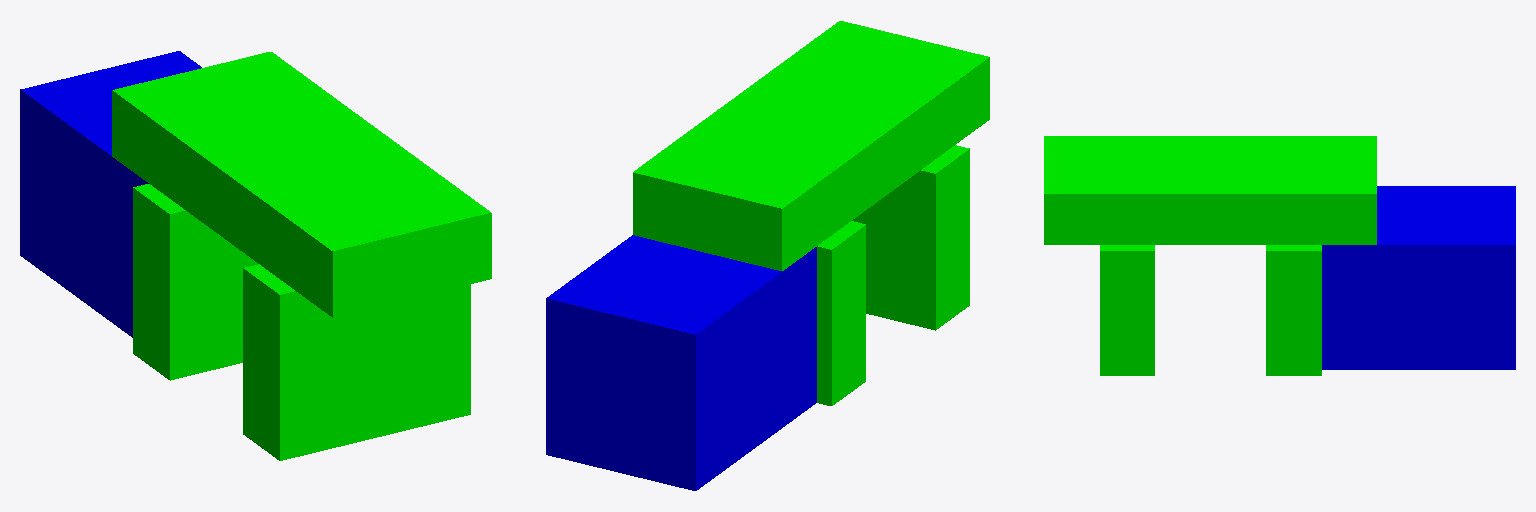
The robot description file, URDF, robot "robot":
<robot name = "robot">
    <link name="root">
        <inertial>
            <origin xyz="0.0 0.0 1.5" rpy="0 0 0"/>
            <mass value="1" />
            <inertia ixx="100" ixy="0" ixz="0" iyy="100" iyz="0" izz="100" />
        </inertial>
        <visual>
            <origin xyz="0.0 0.0 1.5" rpy="0 0 0"/>
            <geometry>
                <box size="0 0 0.0001" />
            </geometry>
            <material name="Green">
                <color rgba="0 1.0 0.0 1.0"/>
            </material>
        </visual>
        <collision>
            <origin xyz="0.0 0.0 1.5" rpy="0 0 0"/>
            <geometry>
                <box size="0 0 0.0001" />
            </geometry>
        </collision>
    </link>
    <joint name="root_000" type="revolute">
       <parent link="root"/>
       <child  link="000"/>
       <origin rpy="0 0 0" xyz="0.0 0.0 1.5" />
     <axis xyz="1 0 0"/>
       <limit effort="0.0" lower="-3.14159" upper="3.14159" velocity="0.0"/>
    </joint>
    <link name="000">
        <inertial>
            <origin xyz="0.0 0.3 0.0" rpy="0 0 0"/>
            <mass value="1" />
            <inertia ixx="100" ixy="0" ixz="0" iyy="100" iyz="0" izz="100" />
        </inertial>
        <visual>
            <origin xyz="0.0 0.3 0.0" rpy="0 0 0"/>
            <geometry>
                <box size="0.5 0.6 0.2" />
            </geometry>
            <material name="Green">
                <color rgba="0 1.0 0.0 1.0"/>
            </material>
        </visual>
        <collision>
            <origin xyz="0.0 0.3 0.0" rpy="0 0 0"/>
            <geometry>
                <box size="0.5 0.6 0.2" />
            </geometry>
        </collision>
    </link>
    <joint name="000_010" type="revolute">
       <parent link="000"/>
       <child  link="010"/>
       <origin rpy="0 0 0" xyz="0.0 0.6 -0.0" />
     <axis xyz="0 1 0"/>
       <limit effort="0.0" lower="-3.14159" upper="3.14159" velocity="0.0"/>
    </joint>
    <link name="010">
        <inertial>
            <origin xyz="0.0 0.3 -0.0" rpy="0 0 0"/>
            <mass value="1" />
            <inertia ixx="100" ixy="0" ixz="0" iyy="100" iyz="0" izz="100" />
        </inertial>
        <visual>
            <origin xyz="0.0 0.3 -0.0" rpy="0 0 0"/>
            <geometry>
                <box size="0.5 0.6 0.2" />
            </geometry>
            <material name="Green">
                <color rgba="0 1.0 0.0 1.0"/>
            </material>
        </visual>
        <collision>
            <origin xyz="0.0 0.3 -0.0" rpy="0 0 0"/>
            <geometry>
                <box size="0.5 0.6 0.2" />
            </geometry>
        </collision>
    </link>
    <joint name="010_010-100" type="revolute">
       <parent link="010"/>
       <child  link="010-100"/>
       <origin rpy="0 0 0" xyz="0.0 0.3 -0.1" />
     <axis xyz="0 0 1"/>
       <limit effort="0.0" lower="-3.14159" upper="3.14159" velocity="0.0"/>
    </joint>
    <link name="010-100">
        <inertial>
            <origin xyz="0.0 0.0 -0.25" rpy="0 0 0"/>
            <mass value="1" />
            <inertia ixx="100" ixy="0" ixz="0" iyy="100" iyz="0" izz="100" />
        </inertial>
        <visual>
            <origin xyz="0.0 0.0 -0.25" rpy="0 0 0"/>
            <geometry>
                <box size="0.6 0.2 0.5" />
            </geometry>
            <material name="Green">
                <color rgba="0 1.0 0.0 1.0"/>
            </material>
        </visual>
        <collision>
            <origin xyz="0.0 0.0 -0.25" rpy="0 0 0"/>
            <geometry>
                <box size="0.6 0.2 0.5" />
            </geometry>
        </collision>
    </link>
    <joint name="010-100_010-100-200" type="revolute">
       <parent link="010-100"/>
       <child  link="010-100-200"/>
       <origin rpy="0 0 0" xyz="0.0 0.1 -0.25" />
     <axis xyz="0 1 0"/>
       <limit effort="0.0" lower="-3.14159" upper="3.14159" velocity="0.0"/>
    </joint>
    <link name="010-100-200">
        <inertial>
            <origin xyz="0.0 0.35 -0.0" rpy="0 0 0"/>
            <mass value="1" />
            <inertia ixx="100" ixy="0" ixz="0" iyy="100" iyz="0" izz="100" />
        </inertial>
        <visual>
            <origin xyz="0.0 0.35 -0.0" rpy="0 0 0"/>
            <geometry>
                <box size="0.5 0.7 0.5" />
            </geometry>
            <material name="Blue">
                <color rgba="0 0.0 1.0 1.0"/>
            </material>
        </visual>
        <collision>
            <origin xyz="0.0 0.35 -0.0" rpy="0 0 0"/>
            <geometry>
                <box size="0.5 0.7 0.5" />
            </geometry>
        </collision>
    </link>
    <joint name="000_000-100" type="revolute">
       <parent link="000"/>
       <child  link="000-100"/>
       <origin rpy="0 0 0" xyz="0.0 0.3 -0.1" />
     <axis xyz="0 0 1"/>
       <limit effort="0.0" lower="-3.14159" upper="3.14159" velocity="0.0"/>
    </joint>
    <link name="000-100">
        <inertial>
            <origin xyz="0.0 0.0 -0.25" rpy="0 0 0"/>
            <mass value="1" />
            <inertia ixx="100" ixy="0" ixz="0" iyy="100" iyz="0" izz="100" />
        </inertial>
        <visual>
            <origin xyz="0.0 0.0 -0.25" rpy="0 0 0"/>
            <geometry>
                <box size="0.6 0.2 0.5" />
            </geometry>
            <material name="Green">
                <color rgba="0 1.0 0.0 1.0"/>
            </material>
        </visual>
        <collision>
            <origin xyz="0.0 0.0 -0.25" rpy="0 0 0"/>
            <geometry>
                <box size="0.6 0.2 0.5" />
            </geometry>
        </collision>
    </link>
</robot>

--- What the picture shows (computed from the rendered views, not written in the file) ---
Views: 3 orthographic renders of the robot side by side, from view 1: azimuth 30°, elevation 25°; view 2: azimuth 150°, elevation 25°; view 3: azimuth 270°, elevation 25°.
Model robot with 6 links and 5 joints (5 revolute), rooted at root, posed every joint at zero.
Visible links, largest first — view 1: 000, 000-100, [phone redacted], 010, 010-100; view 2: [phone redacted], 010, 000, 000-100, 010-100; view 3: [phone redacted], 000, 010, 010-100, 000-100.
Link boxes in pixels (left/top/right/bottom): 000: left=222, top=132, right=491, bottom=317; 000-100: left=243, top=264, right=470, bottom=460; [phone redacted]: left=20, top=51, right=201, bottom=337; 010: left=112, top=52, right=380, bottom=236; 010-100: left=133, top=184, right=257, bottom=380; [phone redacted]: left=546, top=235, right=816, bottom=490; 010: left=633, top=96, right=885, bottom=270; 000: left=737, top=21, right=989, bottom=194; 000-100: left=852, top=145, right=969, bottom=330; 010-100: left=817, top=221, right=865, bottom=405; [phone redacted]: left=1322, top=186, right=1515, bottom=369; 000: left=1044, top=136, right=1210, bottom=244; 010: left=1211, top=136, right=1376, bottom=244; 010-100: left=1266, top=245, right=1321, bottom=375; 000-100: left=1100, top=245, right=1154, bottom=375.
Size in the robot's own frame: 0.6 by 1.7 by 0.7 metres.
Geometry: primitives only (box / cylinder / sphere), no mesh files.
